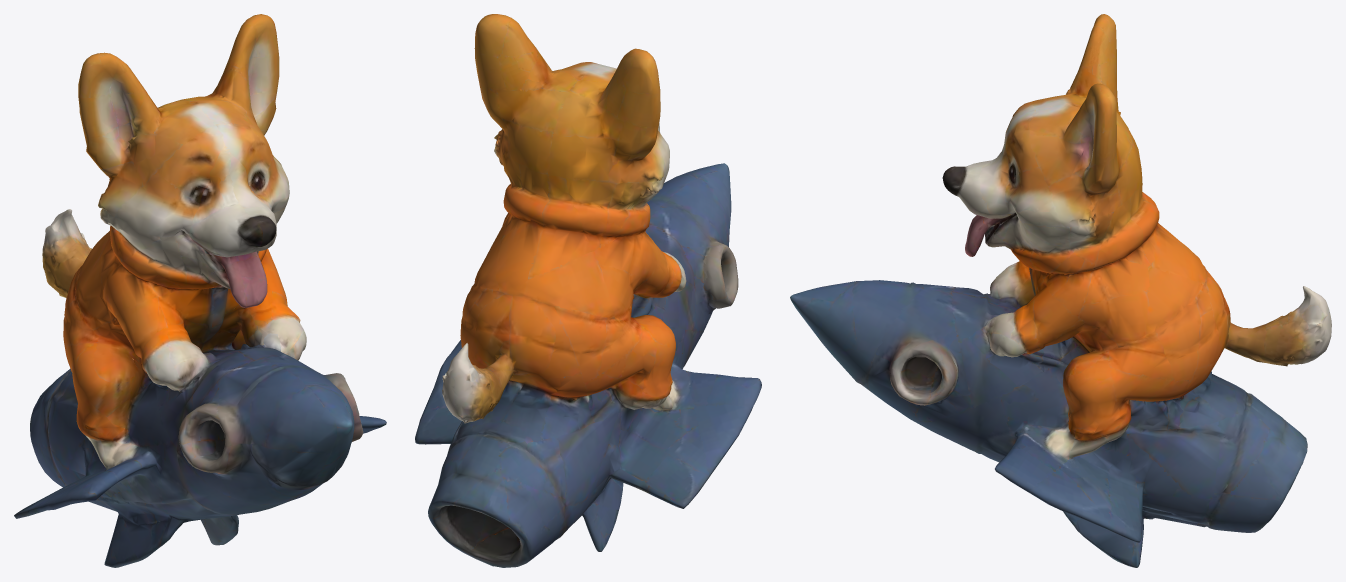
The model's file is pet_corgi.glb.
3 renders of one model, left to right at view 1: azimuth 30°, elevation 25°; view 2: azimuth 150°, elevation 25°; view 3: azimuth 270°, elevation 25°, orthographic. The views are drawn at different scales.
Parts seen in each view (by area): view 1: Object_4; view 2: Object_4; view 3: Object_4.
Boxes of the visible parts, <box> form: Object_4: <box>14,14,386,567</box>; Object_4: <box>415,14,761,567</box>; Object_4: <box>790,14,1331,567</box>.
Size of the model in its own units: 1.24 by 1.99 by 1.99.
1 material, 1 textured.
